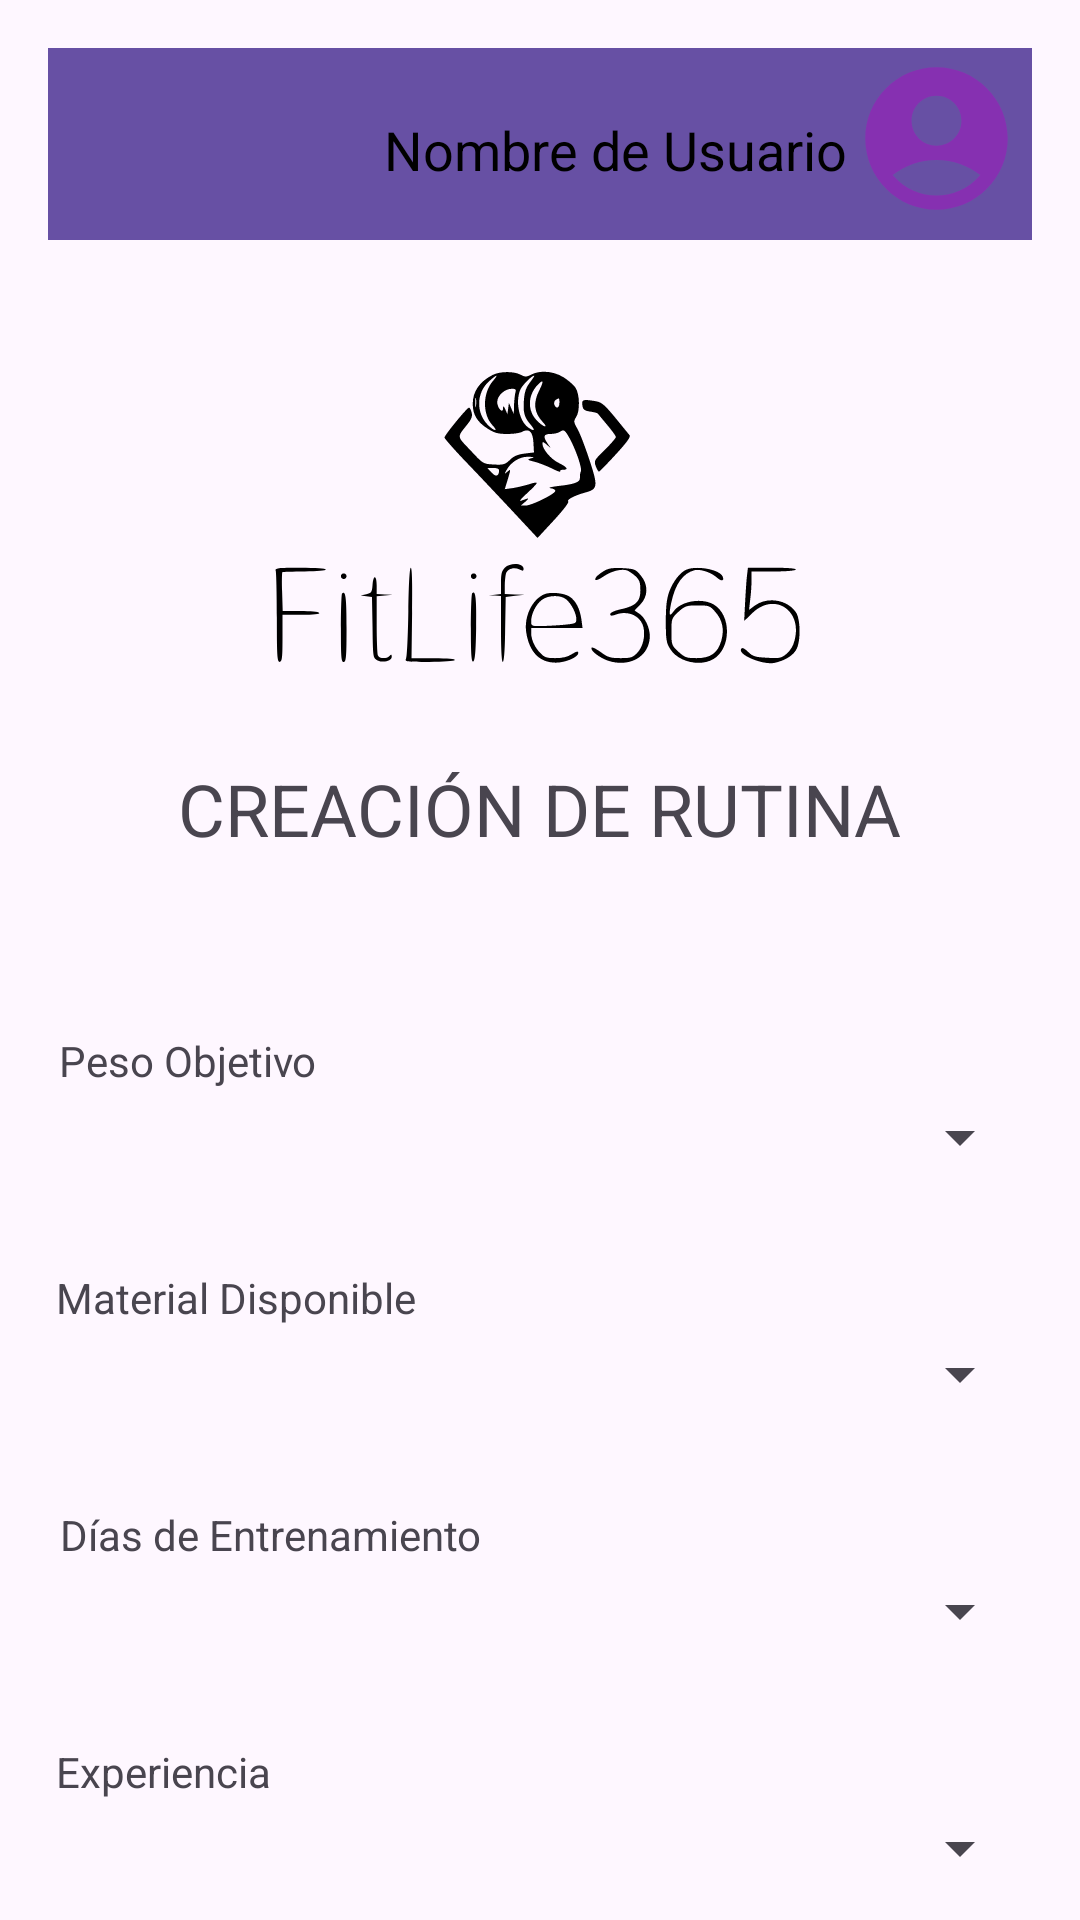

Where to tap for icons on this 1080px x 1920px app screen, as point (x, y):
perfil: point (936, 138)
